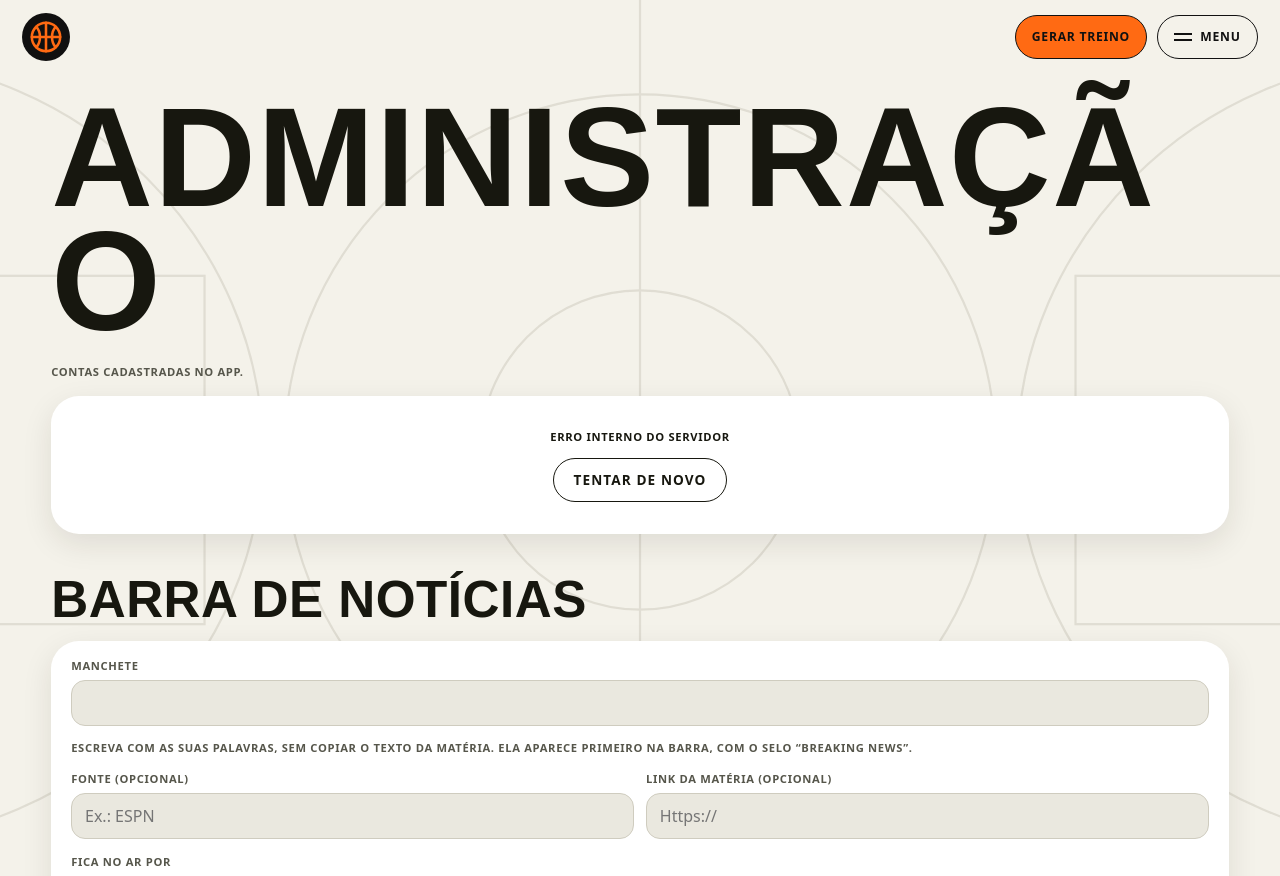
Test case: Painel admin › permite tentar de novo quando a lista não carrega
Expected: the message shows "Erro interno do servidor", x1=550 y1=429 x2=730 y2=444
Click the button "Tentar de novo" at (640, 480), box x1=553 y1=458 x2=727 y2=502
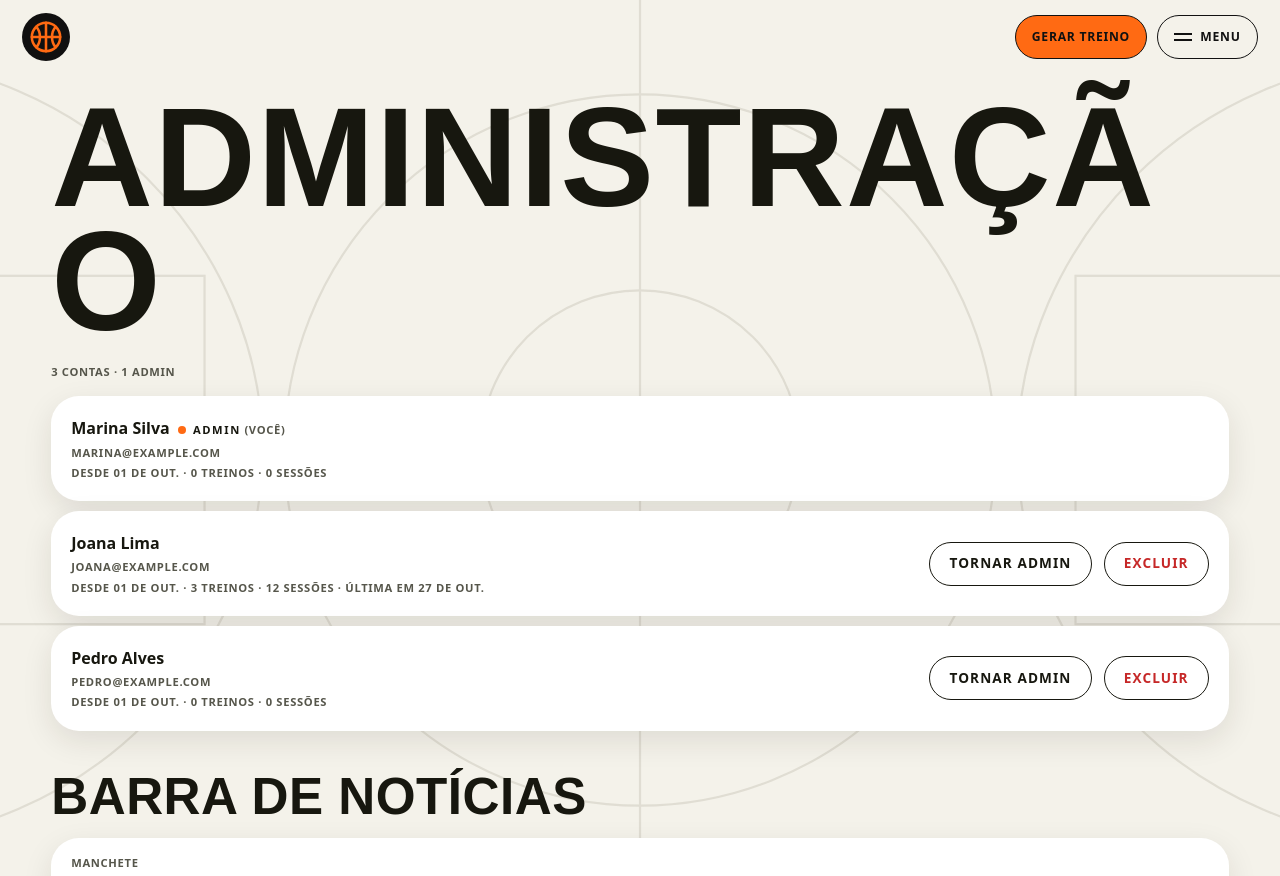
Result: the text "3 contas · 1 admin" is shown at x1=51 y1=364 x2=175 y2=379
